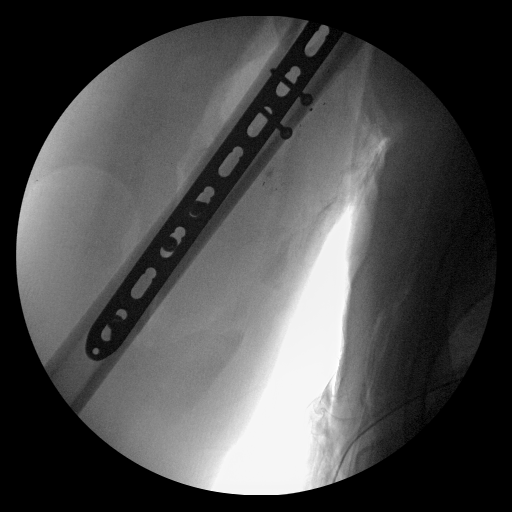implant: (80, 153, 247, 366), (239, 45, 320, 162)
